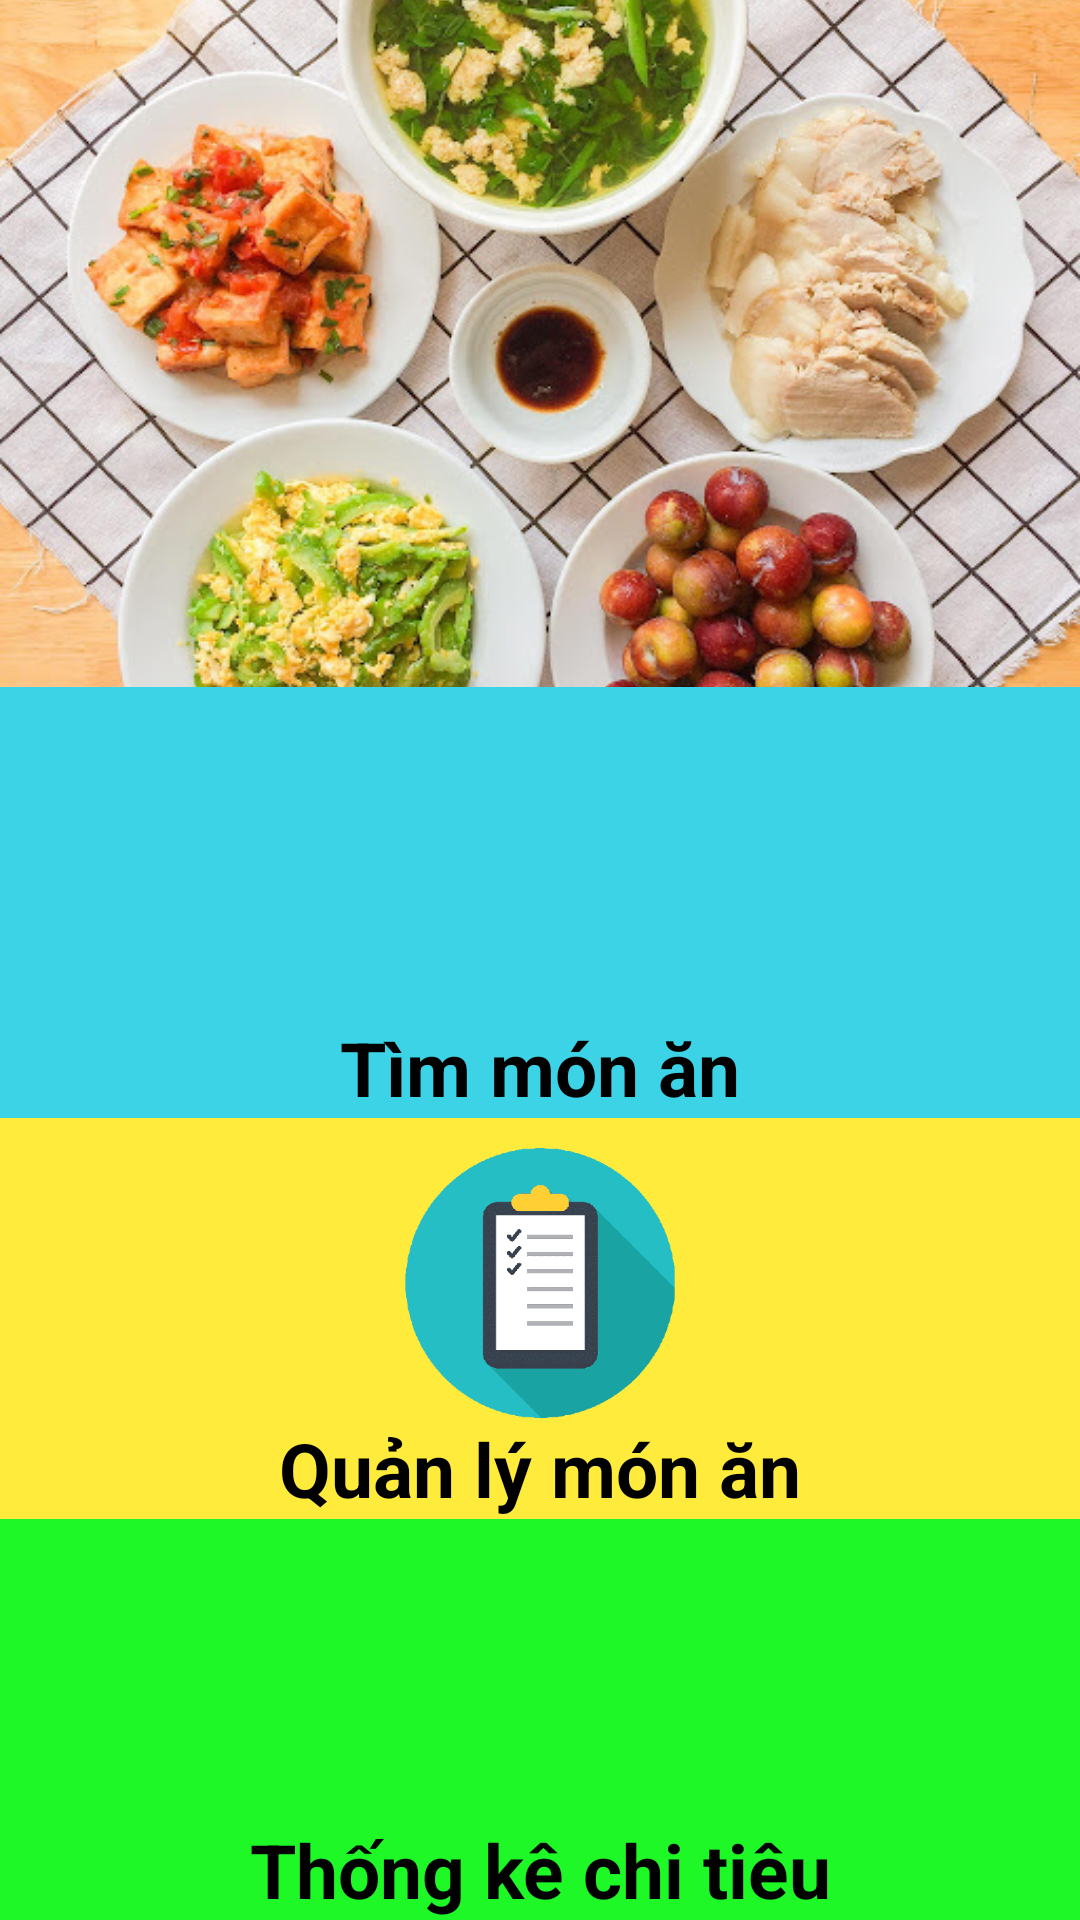

Icons on this 1080x1920 Android screen, each with the point to tap as (x,y):
imgds: (540,1283)
